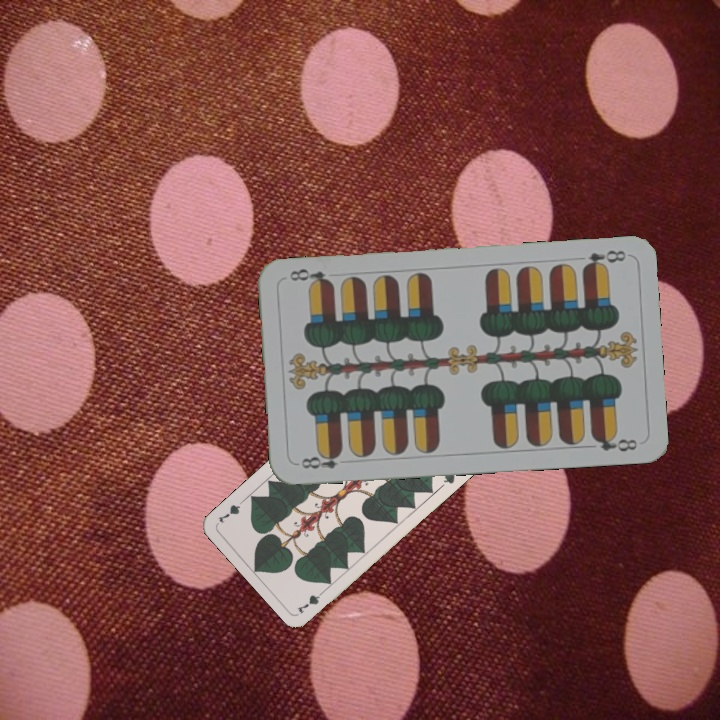E8: (578, 246, 629, 273), (297, 447, 344, 471)
G7: (293, 585, 329, 616)
